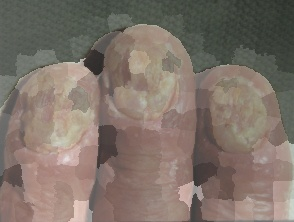Nail_psoriasis: (0, 44, 120, 198), (97, 21, 197, 139), (197, 66, 284, 175)
